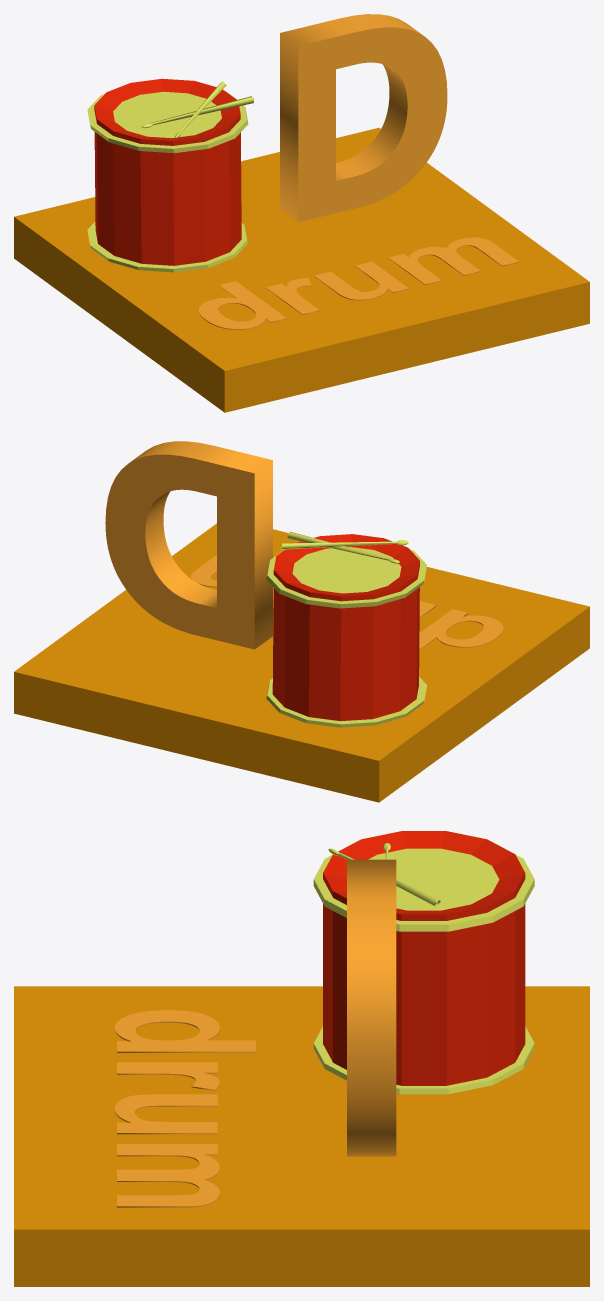
The model's file is dletter.glb.
3 renders of one model, top to bottom at view 1: azimuth 30°, elevation 25°; view 2: azimuth 150°, elevation 25°; view 3: azimuth 270°, elevation 25°, orthographic. The views are drawn at different scales.
Visible parts, largest first — view 1: Cube, Text.003, Circle.001, Text.002, Circle.003, Circle.002, Cube.001; view 2: Cube, Text.003, Circle.001, Circle.003, Text.002, Circle.002, Cube.002, Cube.001; view 3: Cube, Circle.001, Text.003, Text.002, Circle.003, Circle.002.
Part boxes in pixels (box(x1,y1,x2,y2)): Cube: box(14, 127, 589, 412); Text.003: box(280, 14, 447, 222); Circle.001: box(94, 78, 241, 265); Text.002: box(198, 237, 518, 329); Circle.003: box(87, 91, 248, 153); Circle.002: box(87, 221, 247, 272); Cube.001: box(141, 96, 253, 128); Cube: box(14, 523, 589, 802); Text.003: box(105, 441, 272, 649); Circle.001: box(272, 534, 419, 721); Circle.003: box(266, 547, 426, 608); Text.002: box(190, 555, 503, 650); Circle.002: box(266, 677, 427, 727); Cube.002: box(281, 540, 408, 549); Cube.001: box(287, 531, 399, 563); Cube: box(14, 986, 589, 1286); Circle.001: box(323, 831, 525, 1085); Text.003: box(347, 859, 396, 1156); Text.002: box(114, 1010, 255, 1207); Circle.003: box(313, 848, 534, 931); Circle.002: box(313, 1026, 534, 1094).
Bounding box in the file's own units: 0.327 × 0.1966 × 0.327.
